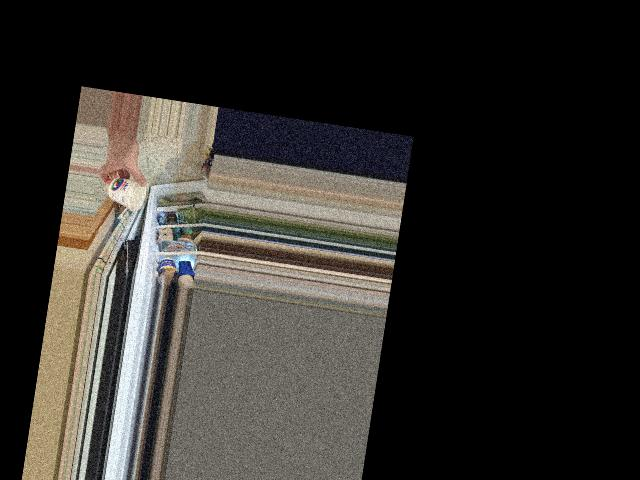cotage: (104, 172, 147, 211)
